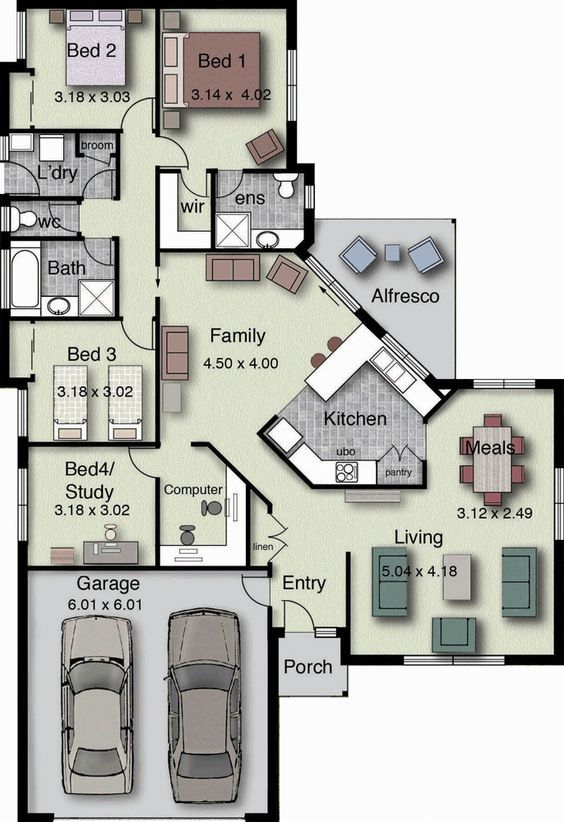door: (262, 516, 310, 559), (6, 160, 43, 196), (376, 433, 420, 460), (121, 322, 154, 354), (159, 136, 192, 168), (231, 573, 264, 605), (280, 593, 313, 625), (124, 445, 157, 477), (123, 97, 155, 123), (81, 244, 113, 270), (176, 172, 208, 198), (82, 167, 114, 193), (217, 174, 237, 199)
room: (338, 372, 564, 669), (257, 309, 429, 489), (155, 1, 314, 177), (1, 313, 160, 449), (1, 1, 162, 134), (12, 437, 161, 573), (152, 437, 251, 574), (1, 231, 122, 326), (207, 163, 313, 256), (1, 127, 125, 204), (1, 193, 92, 241)
window: (398, 652, 506, 669), (470, 371, 533, 396), (281, 46, 301, 124), (544, 463, 564, 541), (13, 461, 32, 543), (10, 7, 30, 62), (14, 384, 32, 440), (1, 242, 14, 313)
